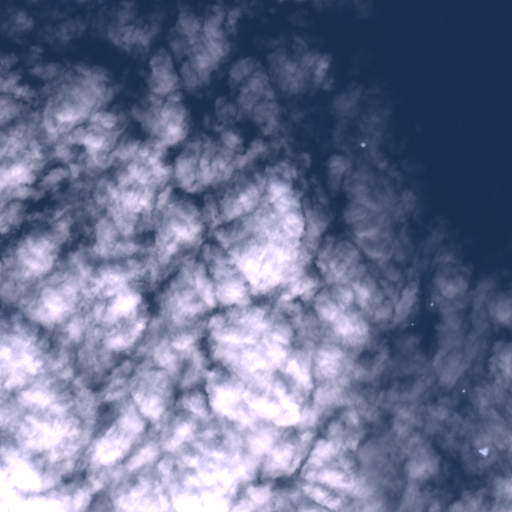Iceberg: (478, 447, 488, 456), (360, 142, 365, 147), (430, 302, 433, 305), (462, 389, 465, 392), (411, 323, 413, 325)
